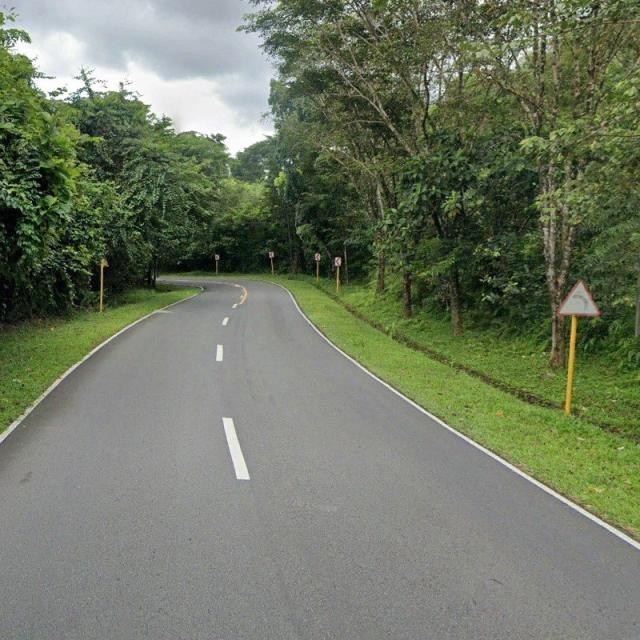warn_left_curve: (556, 279, 601, 317)
